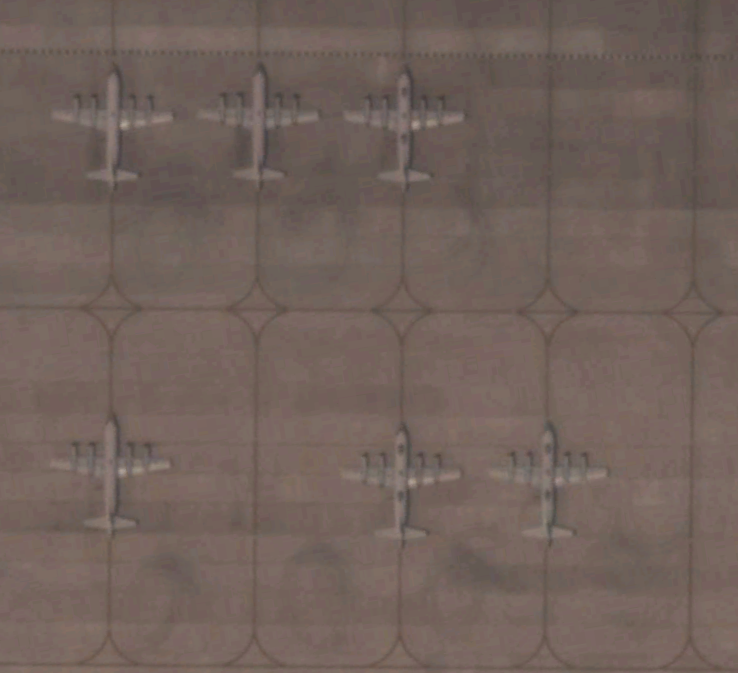A9: (475, 420, 616, 558), (330, 421, 471, 559), (43, 411, 184, 549), (39, 61, 180, 199), (193, 59, 334, 197), (333, 64, 474, 202)
